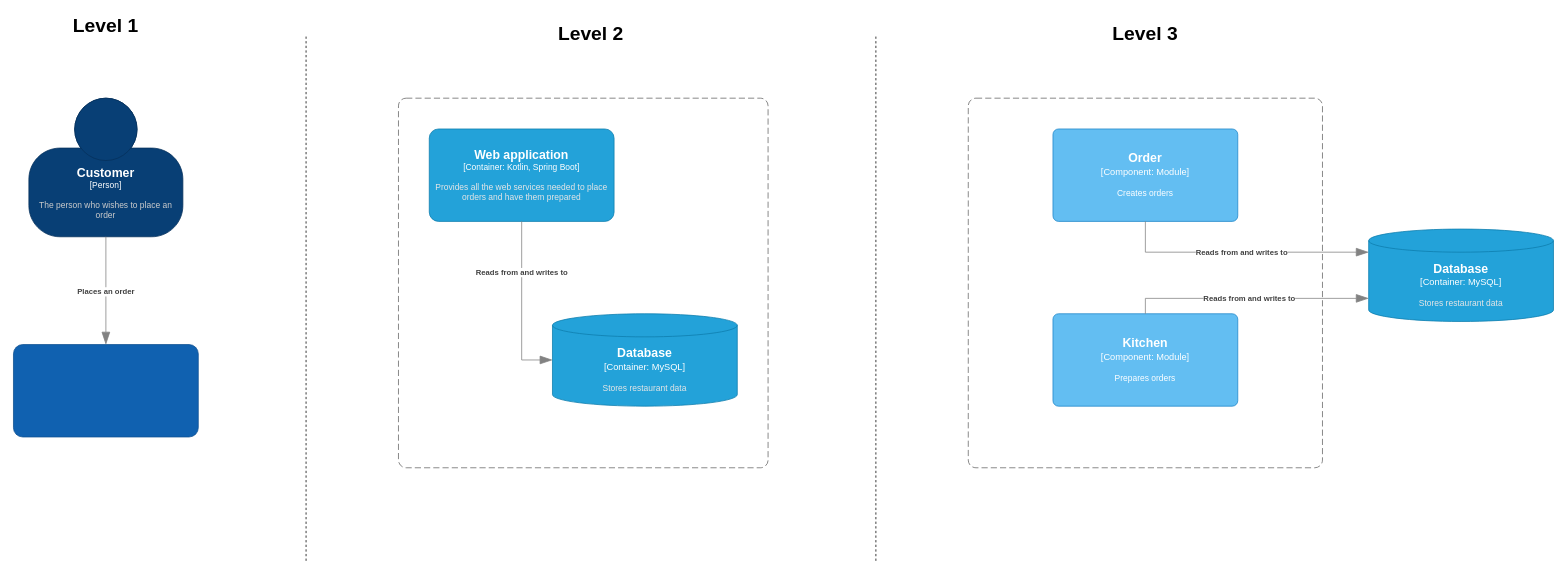
Image size: 1567x575. Some labels were removed from this diagram. Each missing label, with the box of its shape:
Restaurant [Software System]: (398, 97, 768, 468)
Restaurant [Software System] Handles orders: (13, 344, 198, 437)
Web application [Container]: (968, 97, 1322, 468)
